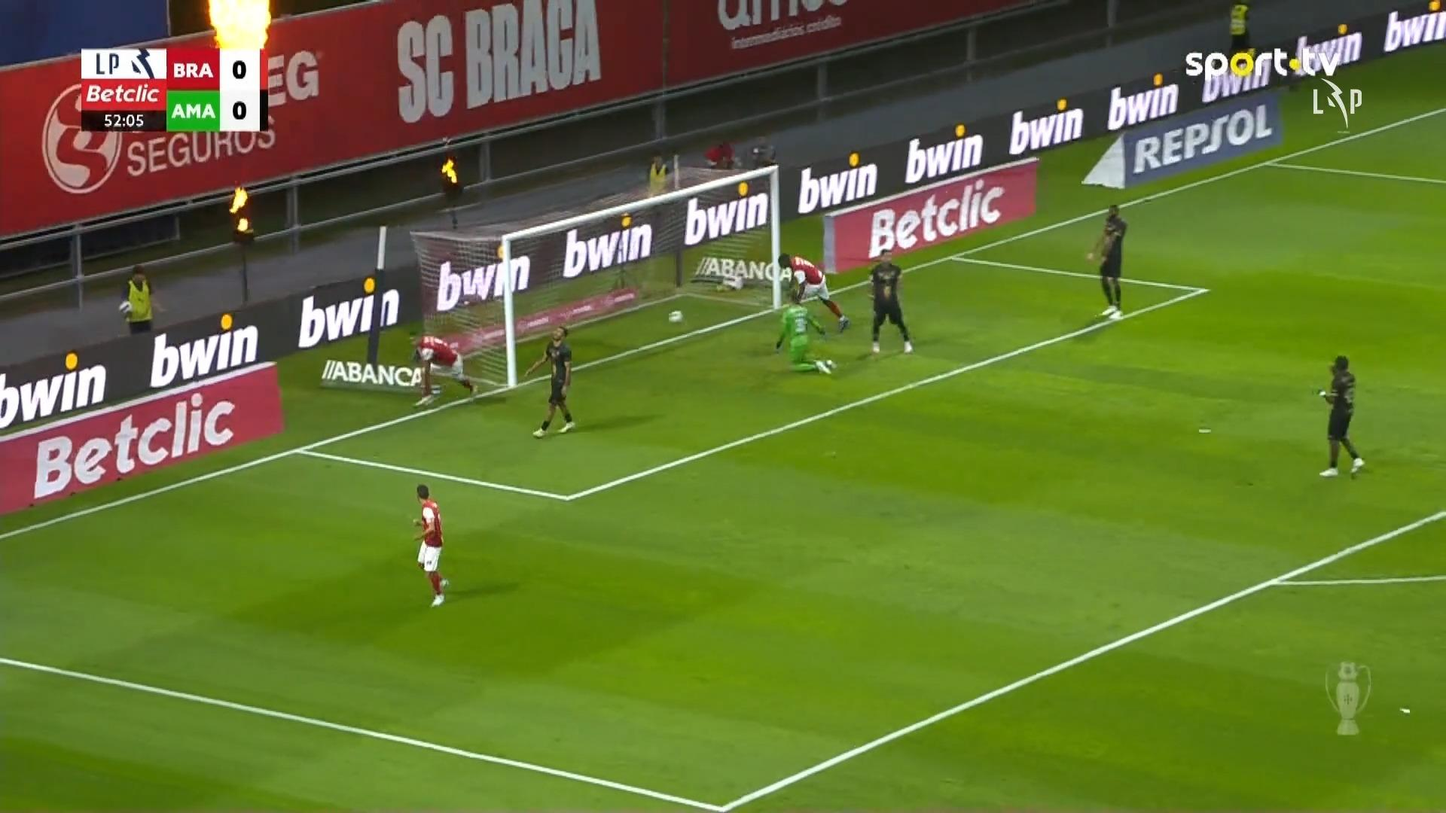ball: (668, 310, 682, 322)
player: (1315, 354, 1365, 477), (777, 251, 850, 333), (523, 324, 575, 438), (407, 330, 476, 407), (867, 247, 914, 355), (1084, 202, 1127, 318), (410, 483, 448, 606)
referee: (773, 290, 835, 375)
